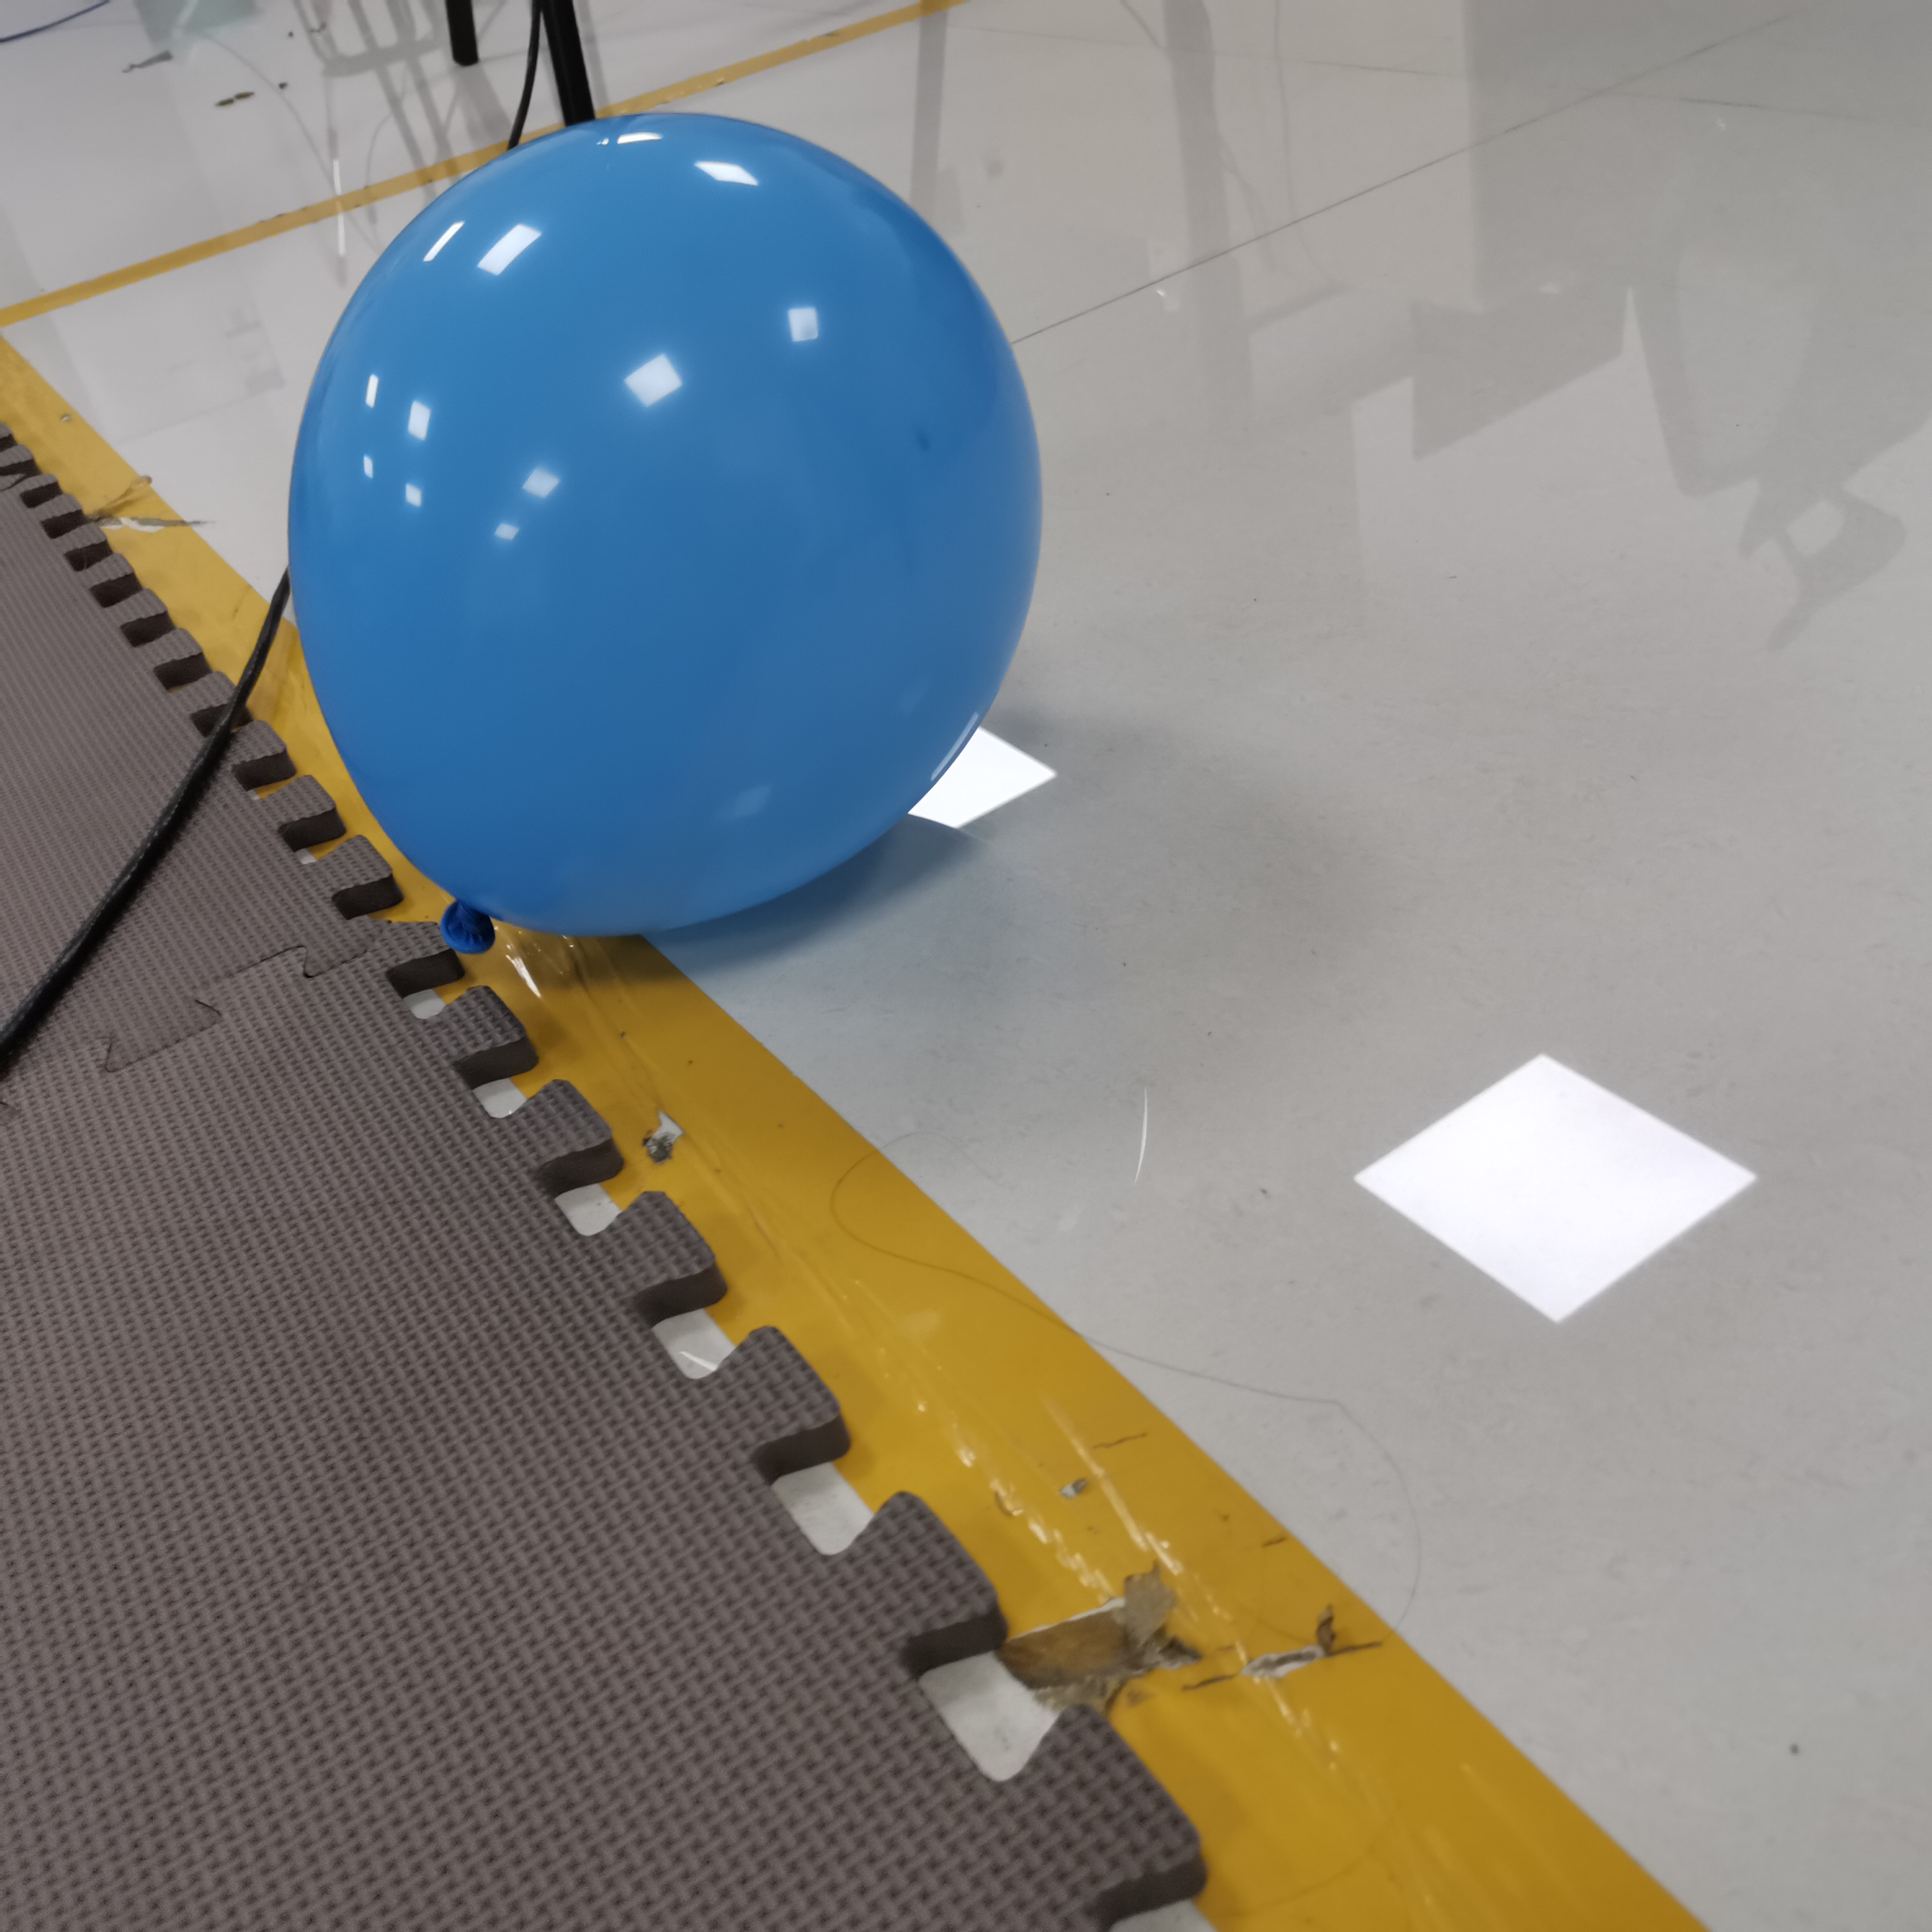balloon: (285, 113, 1042, 957)
